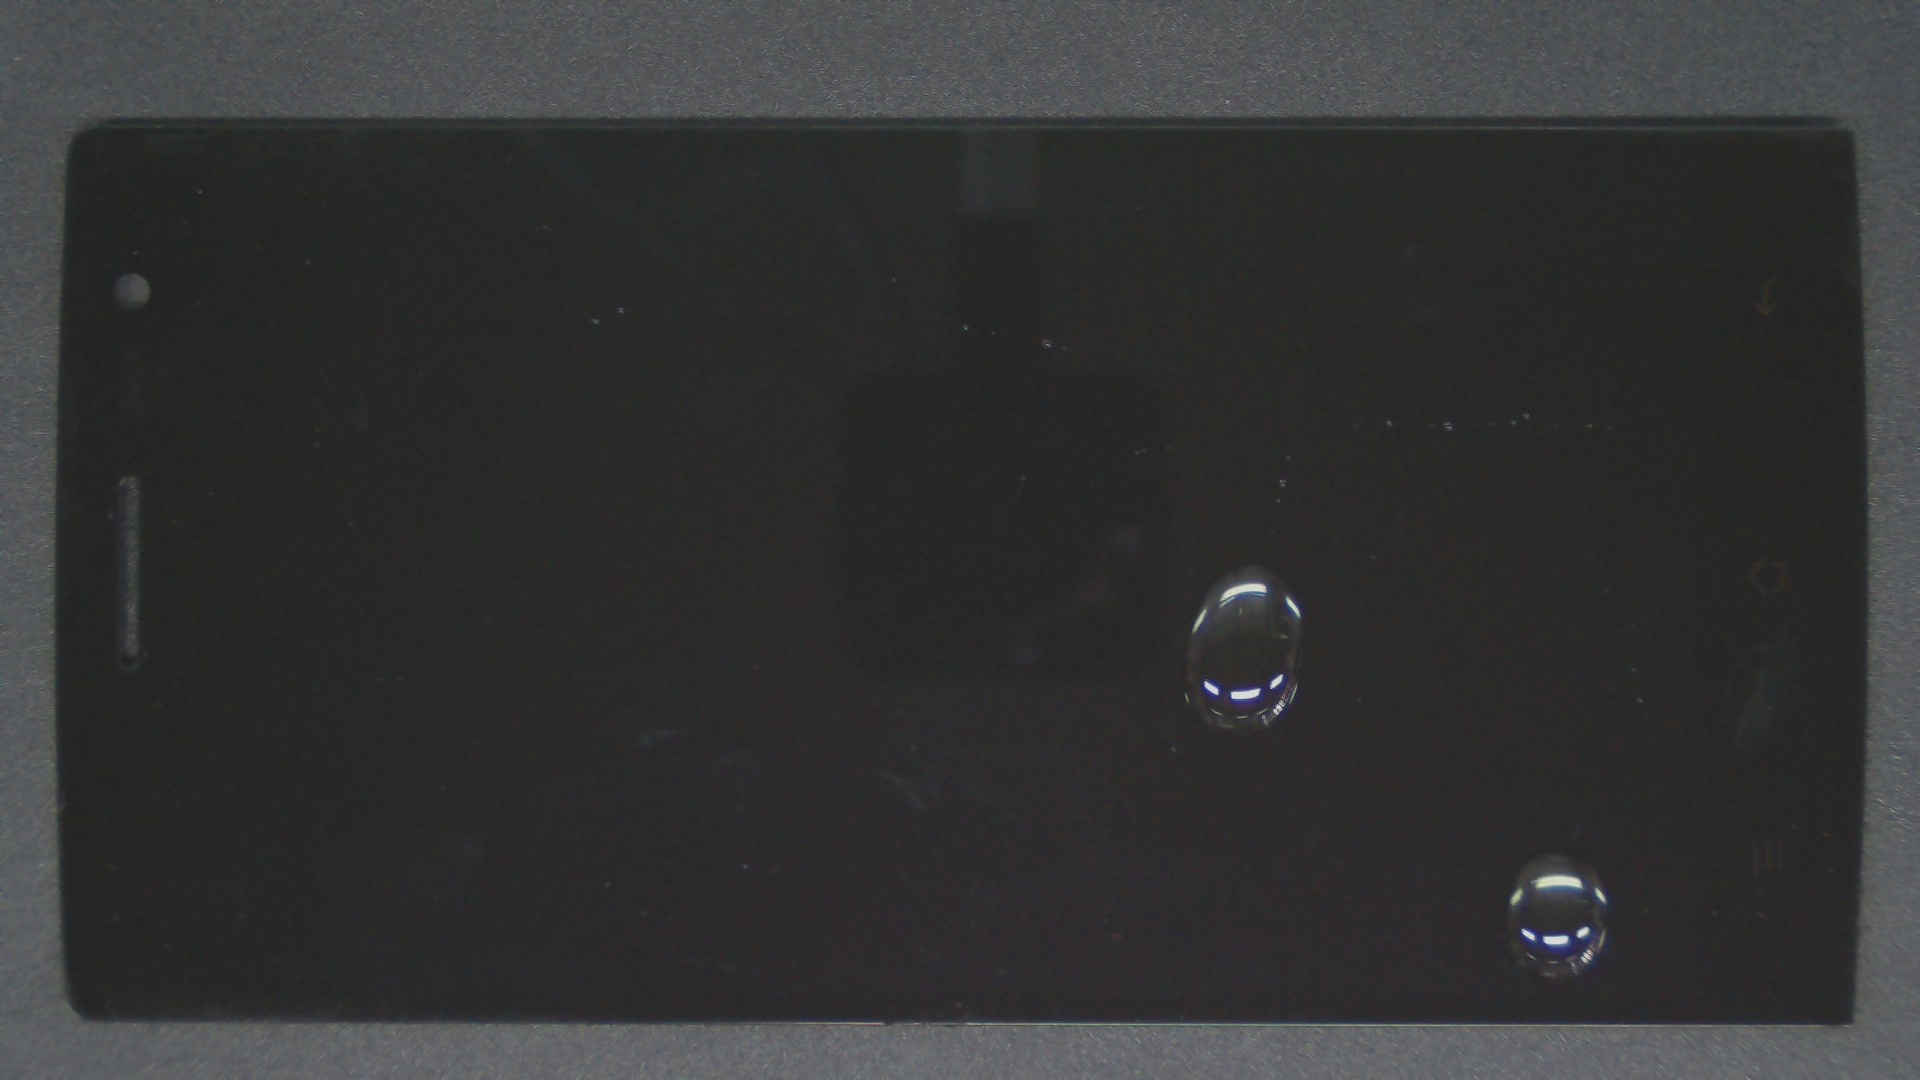oil: (774, 426, 1920, 1080), (622, 280, 1867, 843)
